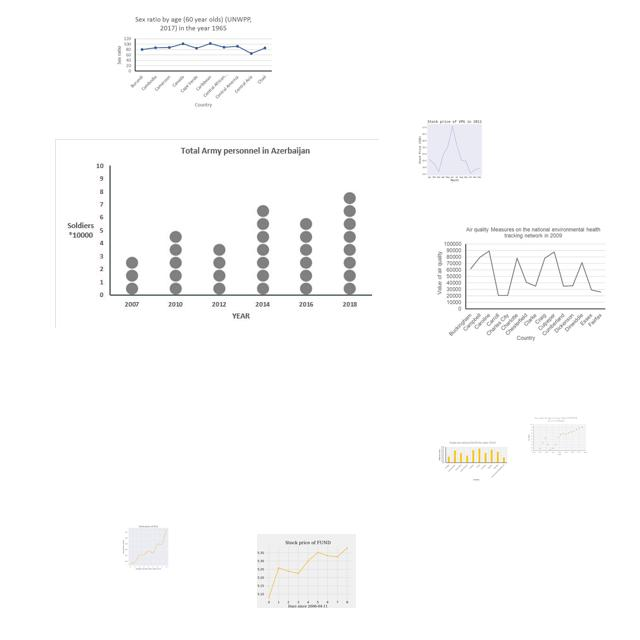Graph: (55, 139, 379, 328), (433, 223, 610, 346), (112, 13, 276, 112), (257, 534, 356, 608), (409, 116, 498, 183), (112, 522, 183, 571), (436, 439, 509, 483), (527, 416, 588, 456)
